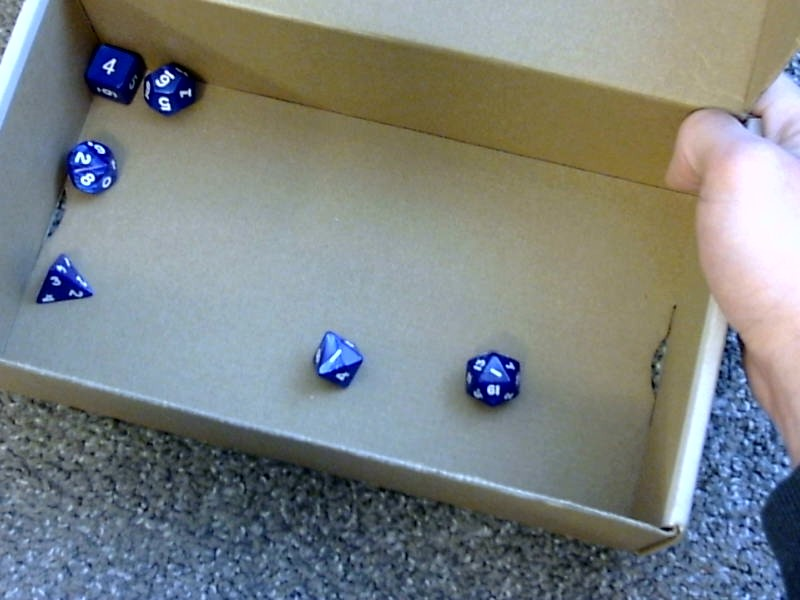d10 2: (63, 138, 119, 196)
d12 6: (142, 60, 206, 116)
d20 1: (461, 344, 523, 410)
d4 3: (30, 252, 97, 310)
d6 4: (79, 39, 146, 105)
d8 1: (309, 332, 368, 389)
